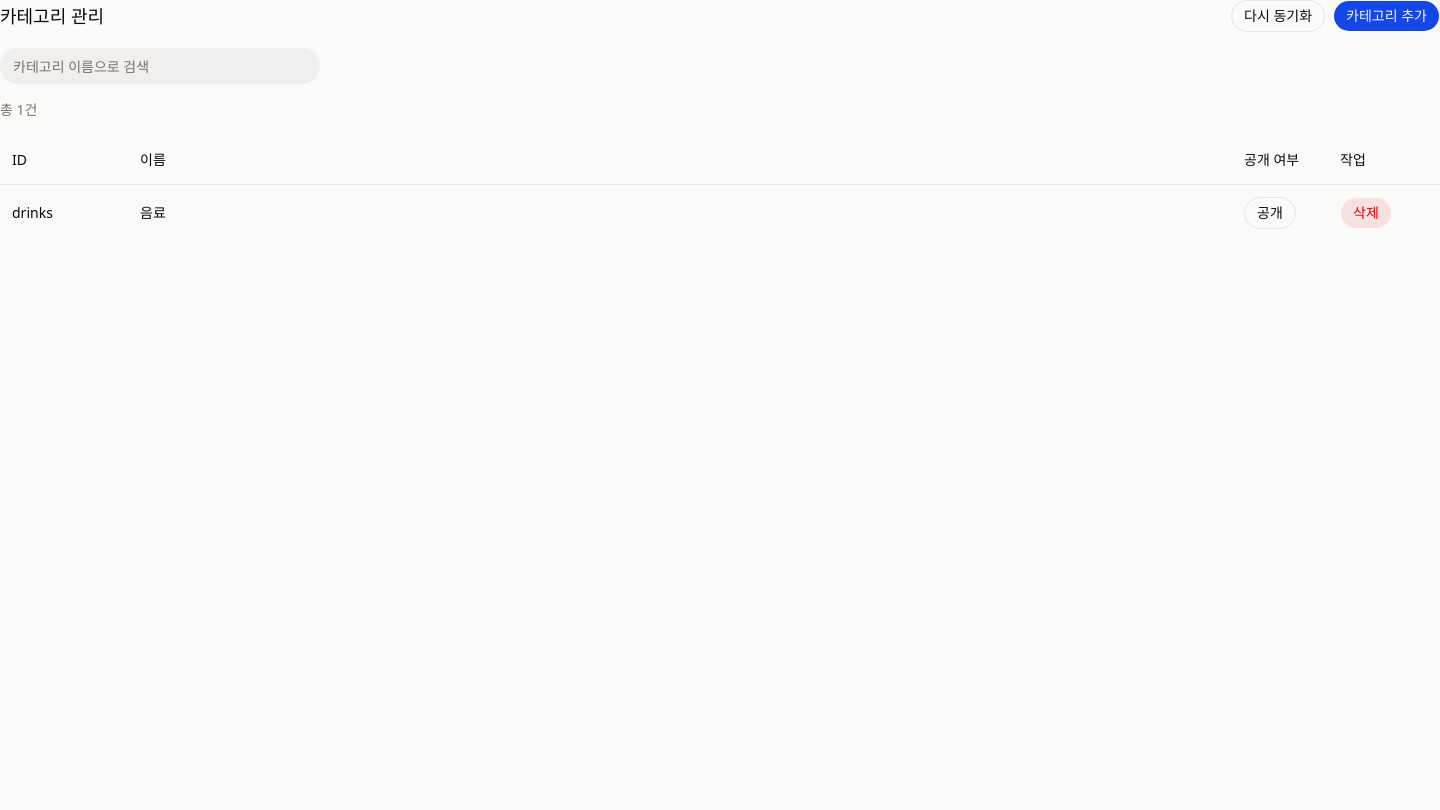
Test: CategoryManagementPage › shows a field error and does not submit when the category form is left empty
Click the button "카테고리 추가". click: click(1387, 16)
box: [1333,0,1439,32]
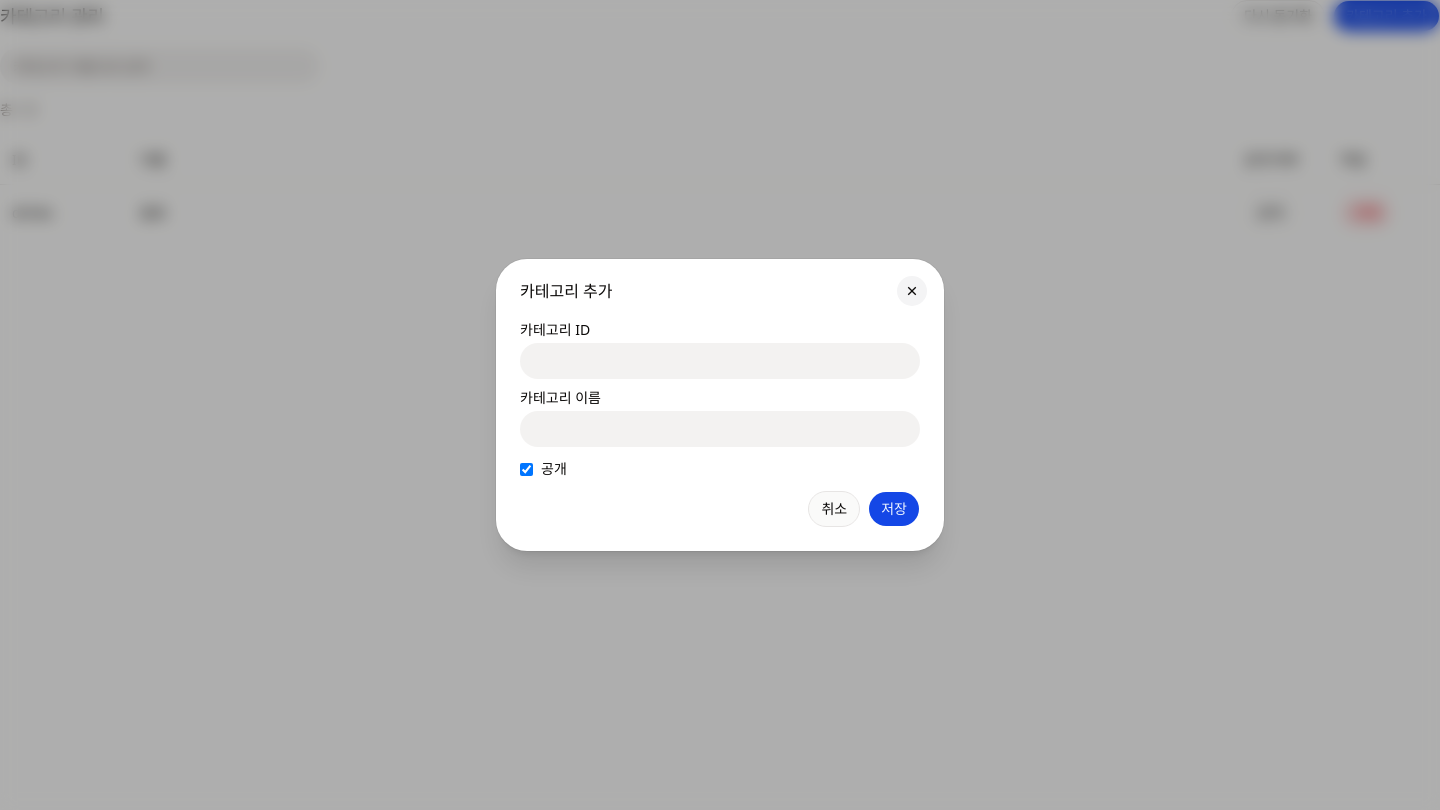
Click the button "저장". click: click(894, 509)
box: [868,491,920,527]
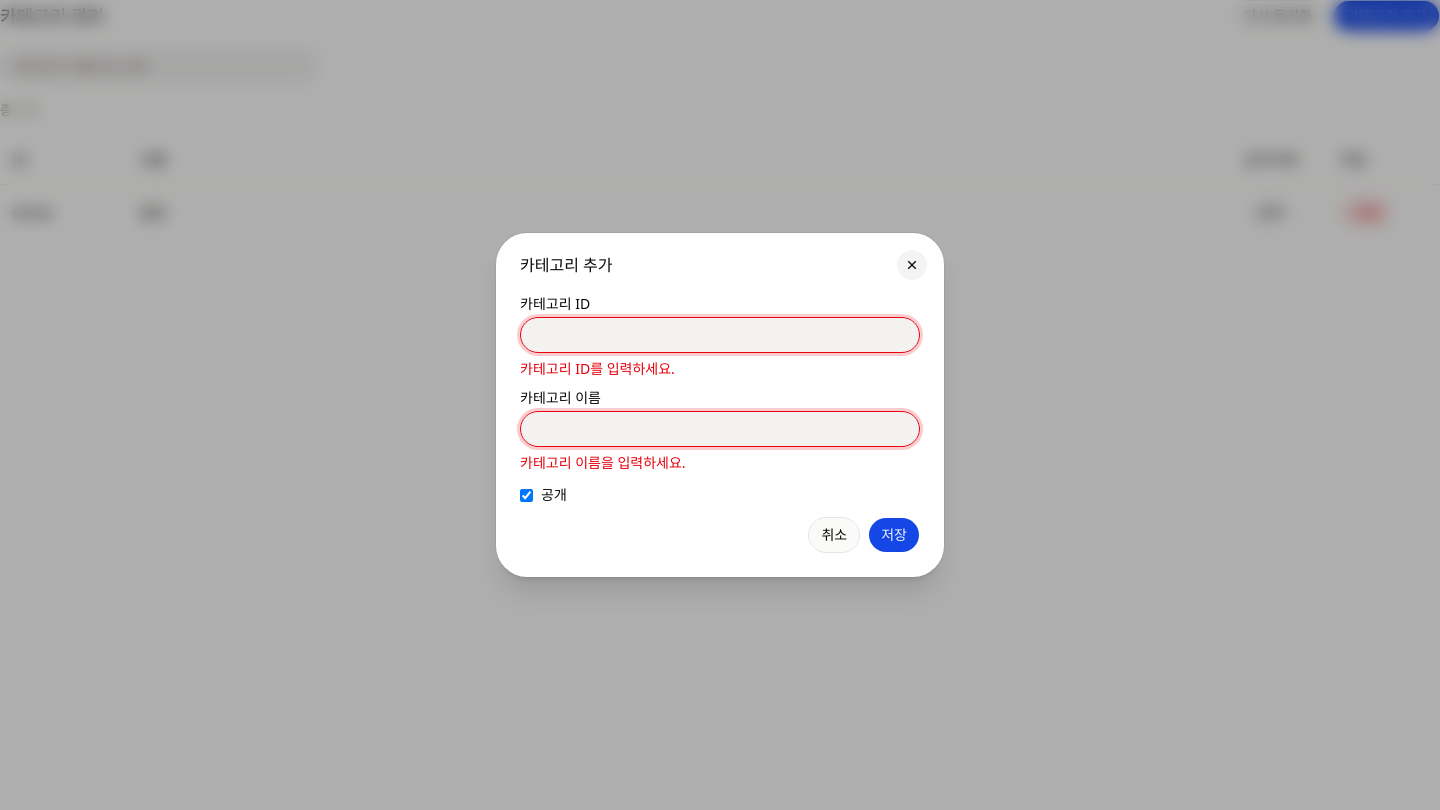
Check: the message "카테고리 ID를 입력하세요." is shown, box [520,359,675,378]
